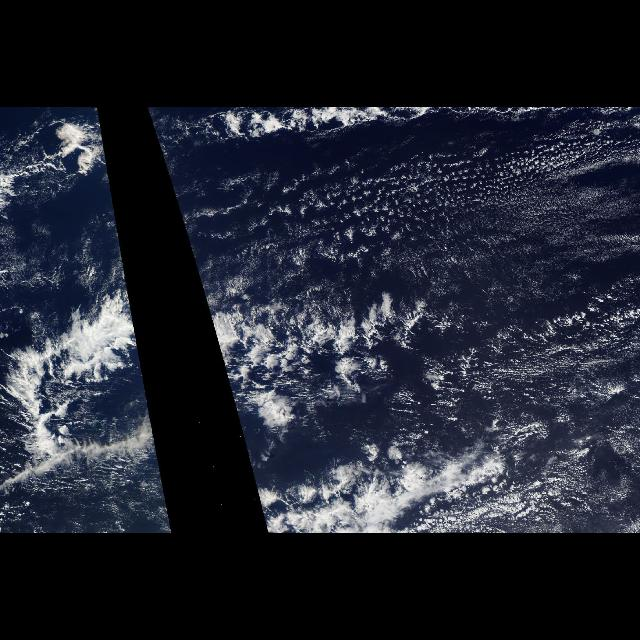Fish: (8, 285, 154, 493), (253, 442, 501, 532)
Gravel: (302, 146, 488, 296)
Sugar: (187, 133, 639, 450)
